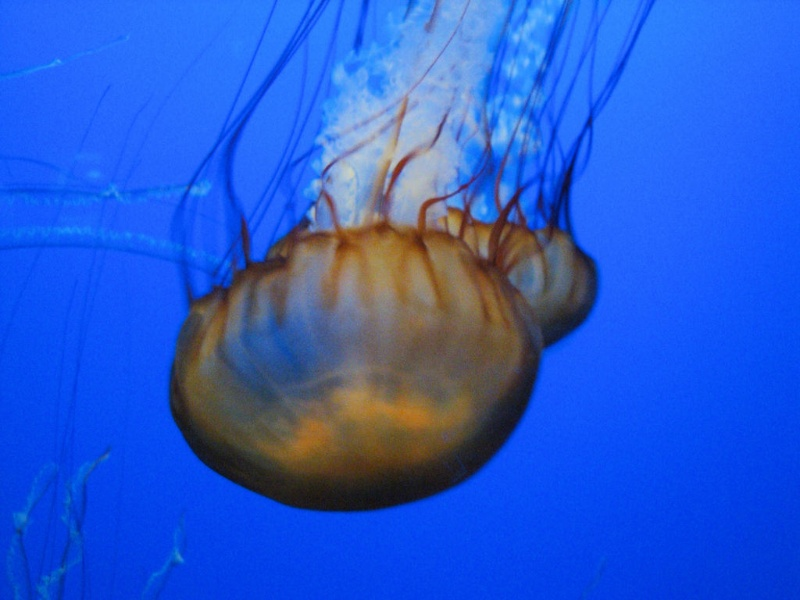Jellyfish: (0, 0, 657, 512), (263, 0, 656, 353)
